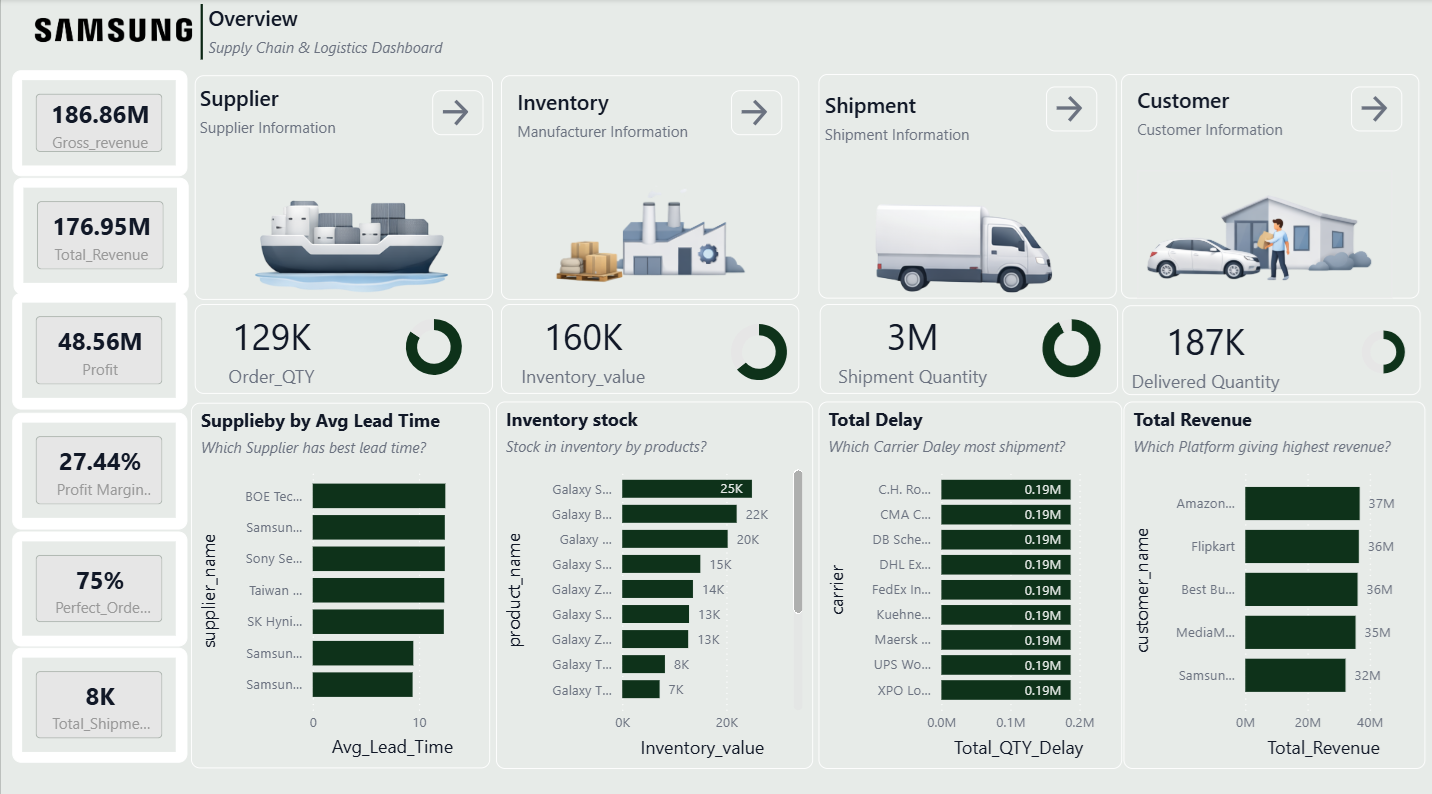

This screenshot's page, from the dashboard's own definition file:
{"tool":"powerbi","page":{"name":"Page 1","canvas":[1280,720],"ordinal":0},"visuals":[{"type":"shape","box":[445.2,67.8,265.4,200.3],"z":0},{"type":"shape","box":[997.2,66.8,265.4,200.3],"z":1000},{"type":"shape","box":[727.7,66.4,265.4,200.3],"z":2000},{"type":"shape","box":[172.5,67.8,265.4,200.3],"z":3000},{"type":"image","box":[181,154.4,253.4,111],"z":4000},{"type":"image","box":[459.7,146,225.6,120.6],"z":5000},{"type":"image","box":[733.7,158,242.5,114.6],"z":6000},{"type":"image","box":[1011.7,152.5,226.8,114.6],"z":7000},{"type":"actionButton","box":[383.6,81,45.8,39.8],"z":8000},{"type":"actionButton","box":[650.3,81,45.8,39.8],"z":9000},{"type":"actionButton","box":[930.4,78.4,45.8,39.8],"z":10000},{"type":"actionButton","box":[1202.3,77.7,45.8,39.8],"z":11000},{"type":"shape","title":"Supplier","box":[177.3,76.2,154.4,49.5],"z":12000},{"type":"shape","title":"Inventory","box":[459.7,78.6,154.4,49.5],"z":13000},{"type":"shape","title":"Shipment","box":[733.7,80.8,176.1,49.5],"z":14000},{"type":"shape","title":"Customer","box":[1011.7,76.5,154.4,49.5],"z":15000},{"type":"shape","title":"Overview","box":[184.6,4.8,236.5,49.5],"z":16000},{"type":"shape","box":[155.6,4.8,45.8,49.5],"z":18000},{"type":"cardVisual","fields":{"Data":["MeasuresTable.Total_Revenue"]},"box":[10.9,159.3,155.6,103.8],"z":19000},{"type":"cardVisual","fields":{"Data":["MeasuresTable.Profit"]},"box":[9.7,261.8,155.6,103.8],"z":20000},{"type":"cardVisual","fields":{"Data":["MeasuresTable.Profit Margin %"]},"box":[9.7,368,155.6,103.8],"z":21000},{"type":"cardVisual","fields":{"Data":["MeasuresTable.Perfect_Order %"]},"box":[9.7,474.1,155.6,102.5],"z":22000},{"type":"cardVisual","fields":{"Data":["MeasuresTable.Total_Shipment"]},"box":[9.7,577.9,155.6,102.5],"z":23000},{"type":"cardVisual","fields":{"Data":["Sum(fact_sales.gross_revenue)"]},"box":[9.7,63.9,155.6,94.1],"z":24000},{"type":"shape","box":[172.5,272,265.4,79.6],"z":24001},{"type":"shape","box":[445.2,272,265.4,79.6],"z":24002},{"type":"shape","box":[728.9,271.7,265.4,79.6],"z":24003},{"type":"shape","box":[998.5,273.1,265.4,79.6],"z":24004},{"type":"card","fields":{"Values":["MeasuresTable.Order_QTY"]},"box":[174.9,271.5,132.7,79.6],"z":24005},{"type":"card","fields":{"Values":["MeasuresTable.Inventory_value"]},"box":[447.6,271.5,142.4,79.6],"z":24006},{"type":"card","fields":{"Values":["MeasuresTable.Total_Shipment_Quantity"]},"box":[733.7,271.2,156.8,79.6],"z":24007},{"type":"card","fields":{"Values":["MeasuresTable.Total_Delivered_Quantity"]},"box":[997.2,275.5,150.8,79.6],"z":24008},{"type":"clusteredBarChart","title":"Supplieby by Avg Lead  Time","fields":{"Y":["MeasuresTable.Avg_Lead_Time"],"Category":["dim_supplier.supplier_name"]},"box":[168.9,359.5,266.6,325.7],"z":24009},{"type":"clusteredBarChart","title":"Inventory stock","fields":{"Y":["MeasuresTable.Inventory_value"],"Category":["dim_product.product_name"]},"box":[440.4,358.3,282.3,326.9],"z":24010},{"type":"clusteredBarChart","title":"Total Delay ","fields":{"Y":["MeasuresTable.Total_Delay"],"Category":["fact_shipment.carrier"]},"box":[727.5,358.3,270.2,326.9],"z":24011},{"type":"clusteredBarChart","title":"Total Revenue ","fields":{"Y":["MeasuresTable.Total_Revenue"],"Category":["dim_customer.customer_name"]},"box":[1000.1,358.3,269,326.9],"z":24012},{"type":"donutChart","fields":{"Y":["MeasuresTable.Order_QTY","MeasuresTable.Defect_Rate"]},"box":[343.4,274.3,85.7,72.4],"z":24013},{"type":"donutChart","fields":{"Y":["MeasuresTable.Inventory_value","MeasuresTable.Safety_Stock"]},"box":[638.9,276.7,72.4,74.8],"z":24014},{"type":"donutChart","fields":{"Y":["MeasuresTable.Total_Shipment","MeasuresTable.Total_Delay1"]},"box":[909.4,274.1,88.1,74.8],"z":24015},{"type":"donutChart","fields":{"Y":["MeasuresTable.Total_Delivered_Quantity","MeasuresTable.Total_QTY_Delay"]},"box":[1202.3,277.9,57.9,72.4],"z":24016},{"type":"image","box":[19.3,0,155.6,54.3],"z":24017}]}

Visuals, with their boxes in screenshot pixels (x1, y1, x2, y2), scaled from the page's 1280x720 canvas onto the 1432x794 screenshot:
shape: bbox=(498, 75, 795, 296)
shape: bbox=(1116, 74, 1413, 295)
shape: bbox=(814, 73, 1111, 294)
shape: bbox=(193, 75, 490, 296)
image: bbox=(202, 170, 486, 293)
image: bbox=(514, 161, 767, 294)
image: bbox=(821, 174, 1092, 301)
image: bbox=(1132, 168, 1386, 295)
actionButton: bbox=(429, 89, 480, 133)
actionButton: bbox=(728, 89, 779, 133)
actionButton: bbox=(1041, 86, 1092, 130)
actionButton: bbox=(1345, 86, 1396, 130)
"Supplier" shape: bbox=(198, 84, 371, 139)
"Inventory" shape: bbox=(514, 87, 687, 141)
"Shipment" shape: bbox=(821, 89, 1018, 144)
"Customer" shape: bbox=(1132, 84, 1305, 139)
"Overview" shape: bbox=(207, 5, 471, 60)
shape: bbox=(174, 5, 225, 60)
cardVisual - MeasuresTable.Total_Revenue: bbox=(12, 176, 186, 290)
cardVisual - MeasuresTable.Profit: bbox=(11, 289, 185, 403)
cardVisual - MeasuresTable.Profit Margin %: bbox=(11, 406, 185, 520)
cardVisual - MeasuresTable.Perfect_Order %: bbox=(11, 523, 185, 636)
cardVisual - MeasuresTable.Total_Shipment: bbox=(11, 637, 185, 750)
cardVisual - Sum(fact_sales.gross_revenue): bbox=(11, 70, 185, 174)
shape: bbox=(193, 300, 490, 388)
shape: bbox=(498, 300, 795, 388)
shape: bbox=(815, 300, 1112, 387)
shape: bbox=(1117, 301, 1414, 389)
card - MeasuresTable.Order_QTY: bbox=(196, 299, 344, 387)
card - MeasuresTable.Inventory_value: bbox=(501, 299, 660, 387)
card - MeasuresTable.Total_Shipment_Quantity: bbox=(821, 299, 996, 387)
card - MeasuresTable.Total_Delivered_Quantity: bbox=(1116, 304, 1284, 392)
"Supplieby by Avg Lead  Time" clusteredBarChart: bbox=(189, 396, 487, 756)
"Inventory stock" clusteredBarChart: bbox=(493, 395, 809, 756)
"Total Delay " clusteredBarChart: bbox=(814, 395, 1116, 756)
"Total Revenue " clusteredBarChart: bbox=(1119, 395, 1420, 756)
donutChart - MeasuresTable.Order_QTY x MeasuresTable.Defect_Rate: bbox=(384, 302, 480, 382)
donutChart - MeasuresTable.Inventory_value x MeasuresTable.Safety_Stock: bbox=(715, 305, 796, 388)
donutChart - MeasuresTable.Total_Shipment x MeasuresTable.Total_Delay1: bbox=(1017, 302, 1116, 385)
donutChart - MeasuresTable.Total_Delivered_Quantity x MeasuresTable.Total_QTY_Delay: bbox=(1345, 306, 1410, 386)
image: bbox=(22, 0, 196, 60)
